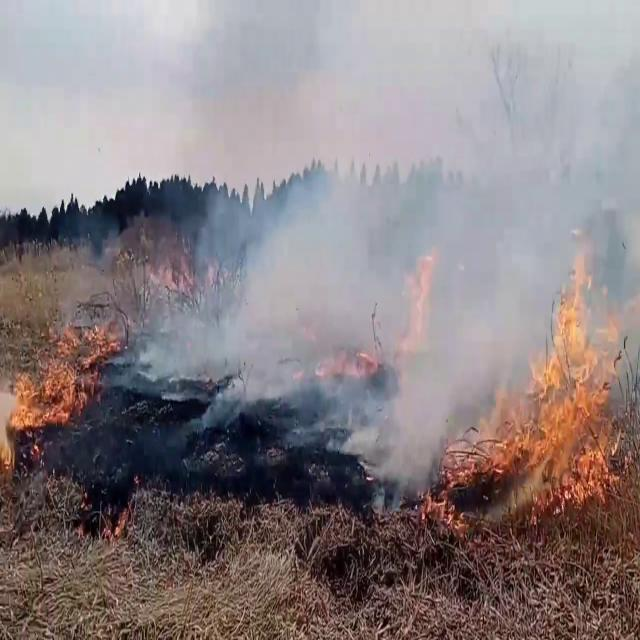Fire: (522, 236, 622, 498), (4, 316, 110, 440)
Smoke: (47, 51, 586, 485)
